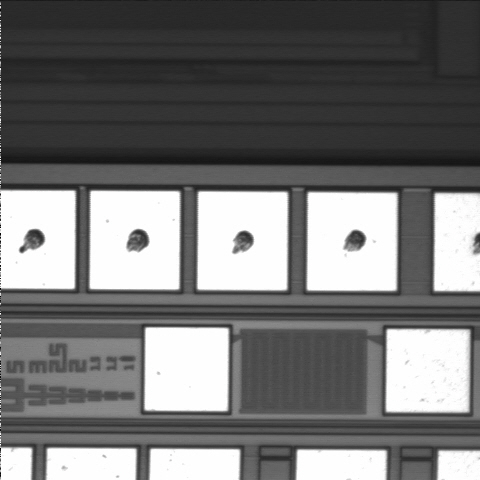pad: (197, 192, 288, 290), (307, 192, 397, 291), (90, 191, 180, 289), (145, 328, 228, 411), (386, 329, 469, 412)
